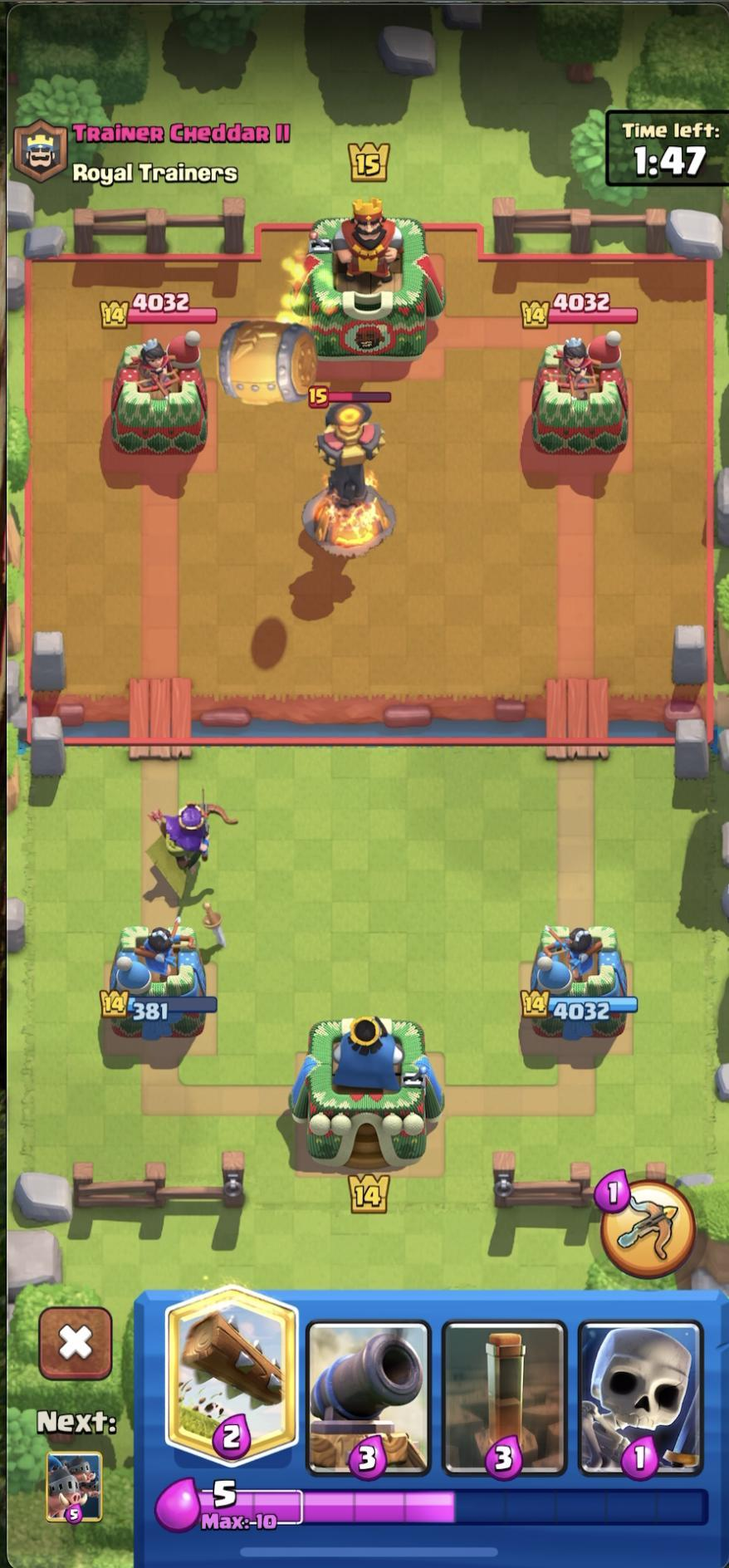card_cannon: (307, 1321, 440, 1481)
card_earthquake: (444, 1319, 568, 1482)
card_log: (166, 1282, 299, 1468)
card_royalhogs: (44, 1449, 105, 1529)
card_skeletons: (579, 1318, 713, 1481)
